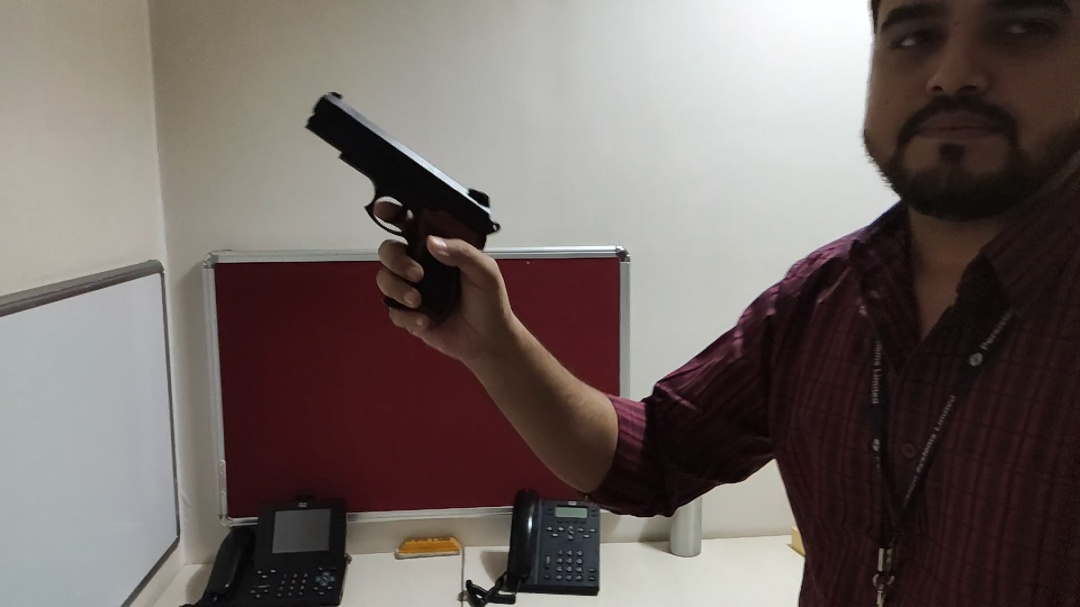gun: (303, 90, 503, 331)
